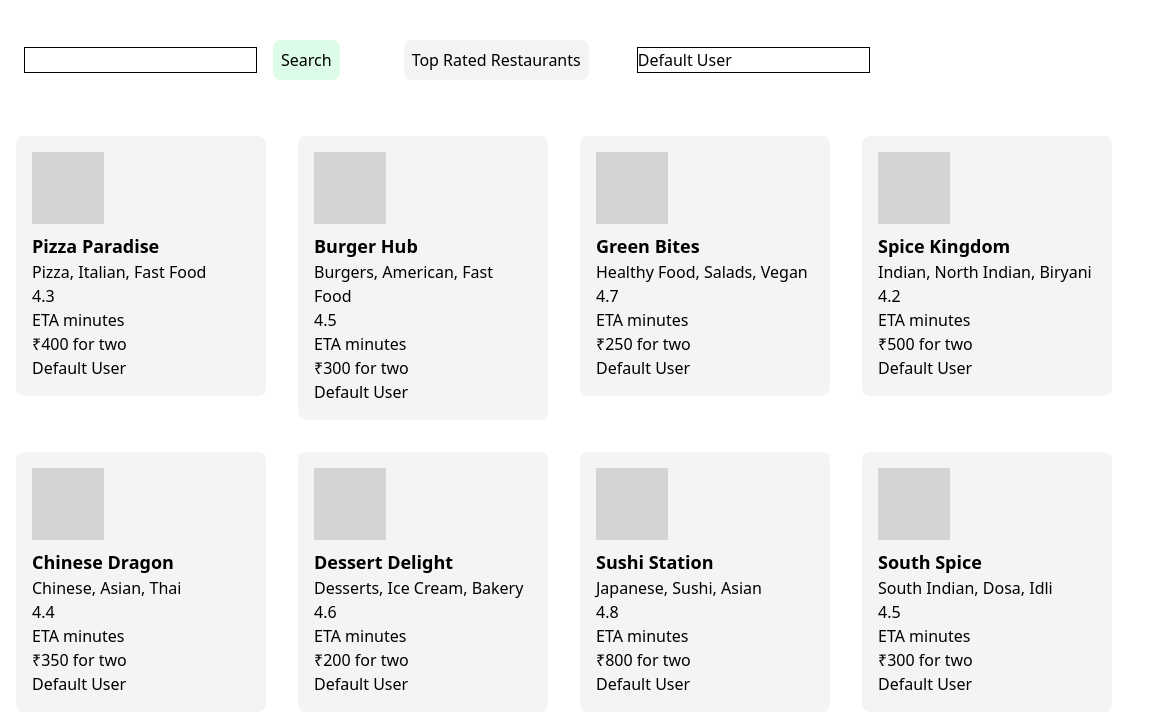
it: Body component test cases › Should load all the resCards and then filter with spcie and list all the res cards
Check: the button "Search" is shown, box [273,40,340,80]
Type "spice" into the field with test id "searchInput" at (140,60), box [24,47,257,73]
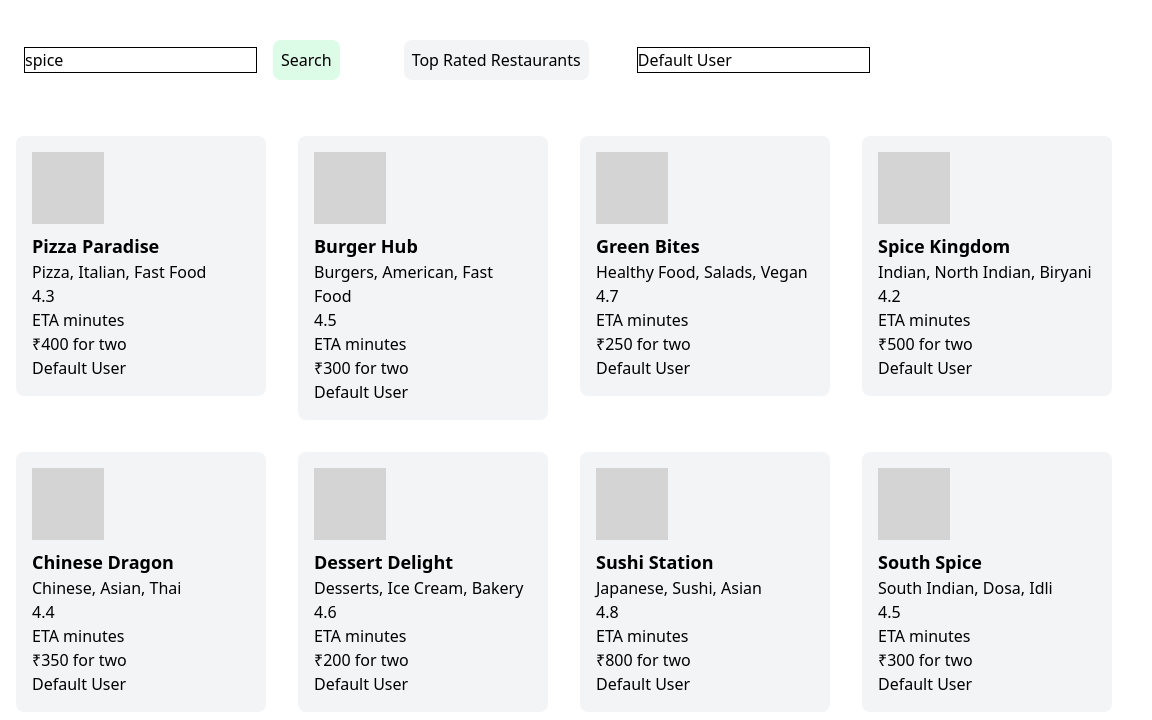
Click the button "Search" at (306,60), box [273,40,340,80]
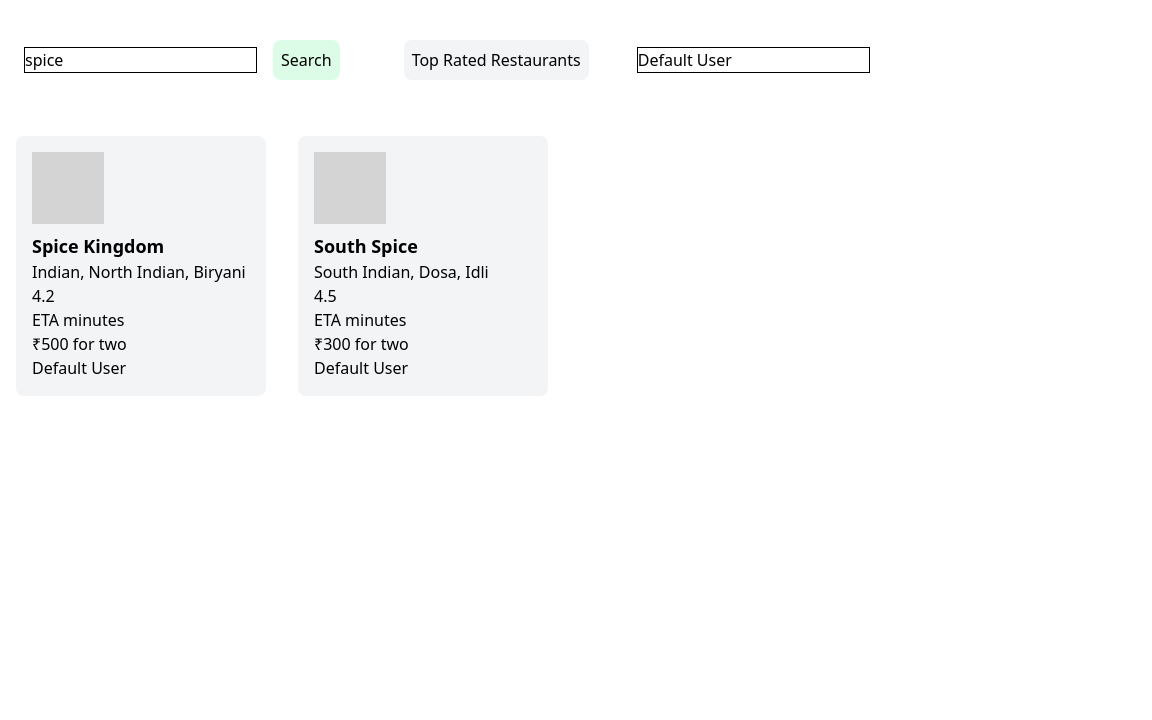
Check: the number of elements with test id "resCard" is 2, box [16,136,266,396]; [298,136,548,396]
